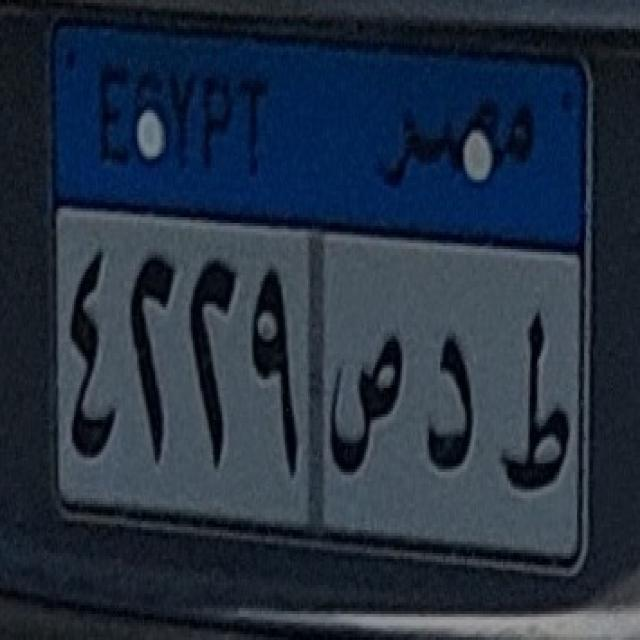2: (116, 234, 184, 483), (178, 241, 244, 485)
4: (62, 236, 128, 474)
9: (246, 254, 312, 493)
Saad: (319, 318, 412, 490)
Taa: (489, 306, 582, 508)
daal: (417, 314, 480, 485)
